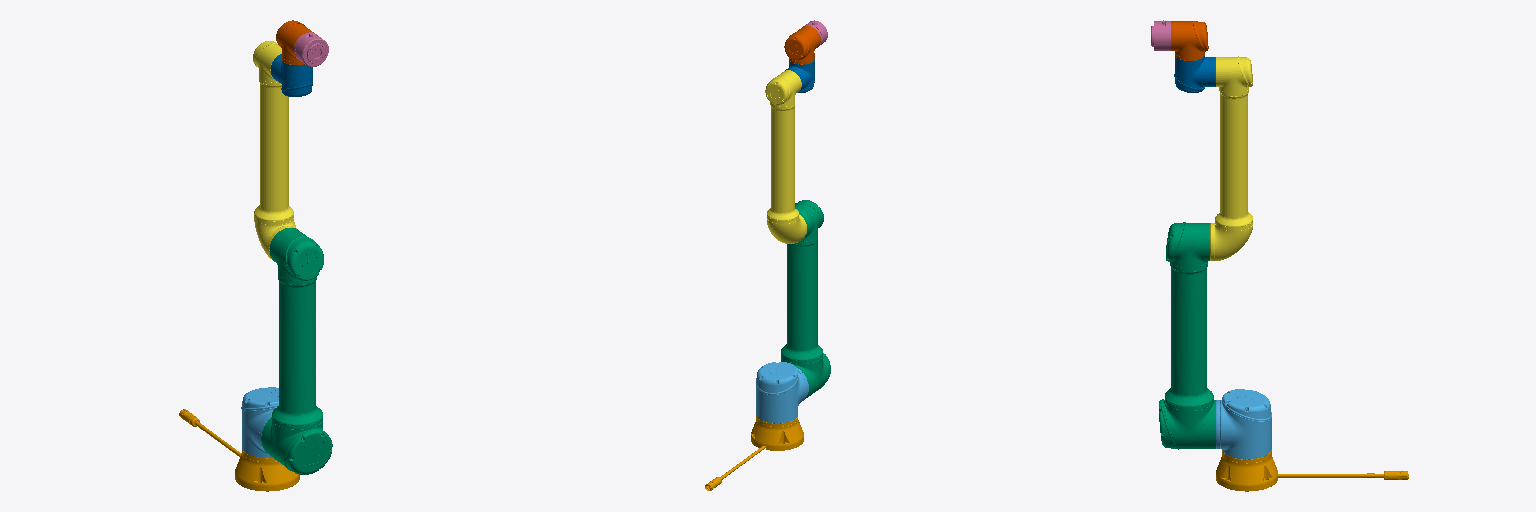
robot.urdf — UR10e:
<?xml version='1.0' encoding='utf-8'?>
<robot name="UR10e">
    <link name="base_link">
        <inertial>
            <origin xyz="0.06917428338563736 0.23417881688318734 -0.15337243336342846" rpy="0.0 0.0 0.0" />
            <mass value="10.356282674844591" />
            <inertia ixx="0.10918312373894065" iyy="0.12145214399428017" izz="0.030131414183445542" ixy="-1.807106658956794e-05" iyz="-0.01101980614496559" ixz="1.0084121370504752e-05" />
        </inertial>
        <visual name="base_link_visual">
            <origin xyz="0.0 0.0 0.0" rpy="0.0 0.0 0.0" />
            <geometry>
                <mesh filename="package://arm6d_demo/meshes/base_link.stl" scale="0.001 0.001 0.001" />
            </geometry>
        </visual>
        <collision name="base_link_collision">
            <origin xyz="0.0 0.0 0.0" rpy="0.0 0.0 0.0" />
            <geometry>
                <mesh filename="package://arm6d_demo/meshes/base_link.stl" scale="0.001 0.001 0.001" />
            </geometry>
        </collision>
    </link>
    <link name="link1_1">
        <inertial>
            <origin xyz="-4.973348842174375e-07 -0.012893529226239792 0.08338924809224578" rpy="0.0 -0.0 0.0" />
            <mass value="27.49176724202075" />
            <inertia ixx="0.11337084001060466" iyy="0.10075579785801886" izz="0.09433894846032778" ixy="-1.9096090897452456e-07" iyz="0.0013998997850853123" ixz="1.6848159711813082e-07" />
        </inertial>
        <visual name="link1_1_visual">
            <origin xyz="-0.06924891576197353 -0.1305945722548186 -0.2771011957374107" rpy="1.5707963267948966 5.551115123125785e-17 -1.9949319973733254e-16" />
            <geometry>
                <mesh filename="package://arm6d_demo/meshes/link1_1.stl" scale="0.001 0.001 0.001" />
            </geometry>
        </visual>
        <collision name="link1_1_collision">
            <origin xyz="-0.06924891576197353 -0.1305945722548186 -0.2771011957374107" rpy="1.5707963267948966 5.551115123125785e-17 -1.9949319973733254e-16" />
            <geometry>
                <mesh filename="package://arm6d_demo/meshes/link1_1.stl" scale="0.001 0.001 0.001" />
            </geometry>
        </collision>
    </link>
    <link name="link2_1">
        <inertial>
            <origin xyz="-4.0460252304086457e-08 0.21130489492964727 0.08240840302127826" rpy="0.0 -0.0 6.077163357286271e-64" />
            <mass value="45.96604980861881" />
            <inertia ixx="3.314123047863391" iyy="0.14431130944946557" izz="3.291260102682715" ixy="-6.110115124968729e-08" iyz="0.007339233969138492" ixz="2.2466732912951315e-07" />
        </inertial>
        <visual name="link2_1_visual">
            <origin xyz="-0.06924891576197463 -0.3585011957374097 0.03599457225481829" rpy="5.4057105551404585e-17 8.27463098040934e-16 -5.551115123125823e-17" />
            <geometry>
                <mesh filename="package://arm6d_demo/meshes/link2_1.stl" scale="0.001 0.001 0.001" />
            </geometry>
        </visual>
        <collision name="link2_1_collision">
            <origin xyz="-0.06924891576197463 -0.3585011957374097 0.03599457225481829" rpy="5.4057105551404585e-17 8.27463098040934e-16 -5.551115123125823e-17" />
            <geometry>
                <mesh filename="package://arm6d_demo/meshes/link2_1.stl" scale="0.001 0.001 0.001" />
            </geometry>
        </collision>
    </link>
    <link name="link3_1">
        <inertial>
            <origin xyz="2.487939632533909e-07 -0.24263667082513352 0.06359392041744232" rpy="0.0 -0.0 0.0" />
            <mass value="19.327241051601742" />
            <inertia ixx="1.2670904704050479" iyy="0.03470007322158933" izz="1.2610723223821196" ixy="-1.3354978900537162e-07" iyz="0.04170877464759998" ixz="-1.2606422645361492e-08" />
        </inertial>
        <visual name="link3_1_visual">
            <origin xyz="-0.06924891576197045 0.9712011957374085 -0.017994572254816675" rpy="-3.141592653589792 1.7243981289013484e-18 4.1633363423443444e-17" />
            <geometry>
                <mesh filename="package://arm6d_demo/meshes/link3_1.stl" scale="0.001 0.001 0.001" />
            </geometry>
        </visual>
        <collision name="link3_1_collision">
            <origin xyz="-0.06924891576197045 0.9712011957374085 -0.017994572254816675" rpy="-3.141592653589792 1.7243981289013484e-18 4.1633363423443444e-17" />
            <geometry>
                <mesh filename="package://arm6d_demo/meshes/link3_1.stl" scale="0.001 0.001 0.001" />
            </geometry>
        </collision>
    </link>
    <link name="link4_1">
        <inertial>
            <origin xyz="-1.2911618698652206e-08 0.001581957459696355 0.06249846941224869" rpy="0.0 -0.0 0.0" />
            <mass value="7.480525959645002" />
            <inertia ixx="0.01430355238185399" iyy="0.011823539229393706" izz="0.010417428430079312" ixy="-3.673344586285765e-07" iyz="-0.0003663601003360828" ixz="5.8023321772293635e-09" />
        </inertial>
        <visual name="link4_1_visual">
            <origin xyz="-0.06924891576197376 -1.542535725737434 0.03489457225481778" rpy="1.037938568563009e-15 -2.641422437093982e-18 -2.7755575615628904e-17" />
            <geometry>
                <mesh filename="package://arm6d_demo/meshes/link4_1.stl" scale="0.001 0.001 0.001" />
            </geometry>
        </visual>
        <collision name="link4_1_collision">
            <origin xyz="-0.06924891576197376 -1.542535725737434 0.03489457225481778" rpy="1.037938568563009e-15 -2.641422437093982e-18 -2.7755575615628904e-17" />
            <geometry>
                <mesh filename="package://arm6d_demo/meshes/link4_1.stl" scale="0.001 0.001 0.001" />
            </geometry>
        </collision>
    </link>
    <link name="link5_1">
        <inertial>
            <origin xyz="2.5812329699448357e-07 -0.0017722514818245827 0.05333362845100226" rpy="0.0 -3.0933288145311896e-100 0.0" />
            <mass value="6.7011959264999" />
            <inertia ixx="0.011295515370372655" iyy="0.008825710459245073" izz="0.009613900010889381" ixy="-7.748204799290503e-08" iyz="0.00029191148494223107" ixz="-4.1302318298797047e-07" />
        </inertial>
        <visual name="link5_1_visual">
            <origin xyz="-0.0692489157619754 0.0435554277451829 -1.5994357257374148" rpy="1.5707963267948977 -1.3877787807814466e-17 -2.6414224370940346e-18" />
            <geometry>
                <mesh filename="package://arm6d_demo/meshes/link5_1.stl" scale="0.001 0.001 0.001" />
            </geometry>
        </visual>
        <collision name="link5_1_collision">
            <origin xyz="-0.0692489157619754 0.0435554277451829 -1.5994357257374148" rpy="1.5707963267948977 -1.3877787807814466e-17 -2.6414224370940346e-18" />
            <geometry>
                <mesh filename="package://arm6d_demo/meshes/link5_1.stl" scale="0.001 0.001 0.001" />
            </geometry>
        </collision>
    </link>
    <link name="link6_1">
        <inertial>
            <origin xyz="2.052886873826765e-09 -0.00011146462771677079 0.0277645415984588" rpy="0.0 -0.0 7.596454196607839e-65" />
            <mass value="2.7494649758872924" />
            <inertia ixx="0.0020705591106198185" iyy="0.0020820341590397085" izz="0.0027233595535118837" ixy="1.6653345369377348e-16" iyz="6.704385147049408e-08" ixz="-6.536438057480609e-15" />
        </inertial>
        <visual name="link6_1_visual">
            <origin xyz="-0.06924891576197535 -1.6623857257374182 -0.09985542774518269" rpy="1.0364995228124495e-15 1.7276392709704102e-17 1.3877787807814444e-17" />
            <geometry>
                <mesh filename="package://arm6d_demo/meshes/link6_1.stl" scale="0.001 0.001 0.001" />
            </geometry>
        </visual>
        <collision name="link6_1_collision">
            <origin xyz="-0.06924891576197535 -1.6623857257374182 -0.09985542774518269" rpy="1.0364995228124495e-15 1.7276392709704102e-17 1.3877787807814444e-17" />
            <geometry>
                <mesh filename="package://arm6d_demo/meshes/link6_1.stl" scale="0.001 0.001 0.001" />
            </geometry>
        </collision>
    </link>
    <joint name="base_link_Joint0" type="revolute">
        <origin xyz="0.06924891576197355 0.2771011957374106 -0.1305945722548187" rpy="-1.5707963267948968 1.994931997373329e-16 3.3306690738754716e-16" />
        <parent link="base_link" />
        <child link="link1_1" />
        <axis xyz="6.945925986254016e-32 4.930380657631324e-32 1.0" />
        <limit lower="-3.14159" upper="3.14159" effort="200" velocity="2.0"/>
    </joint>
    <joint name="link1_1_Joint1" type="revolute">
        <origin xyz="0.0 -0.09460000000000002 0.08140000000000001" rpy="1.5707963267948966 7.311852675687588e-32 2.465190328815662e-32" />
        <parent link="link1_1" />
        <child link="link2_1" />
        <axis xyz="-2.465190328815662e-32 0.0 1.0" />
        <limit lower="-2.35619" upper="2.35619" effort="200" velocity="2.0"/>
    </joint>
    <joint name="link2_1_Joint2" type="revolute">
        <origin xyz="0.0 0.6127 0.018" rpy="3.141592653589793 -2.465190328815662e-32 9.244463733058138e-33" />
        <parent link="link2_1" />
        <child link="link3_1" />
        <axis xyz="0.0 0.0 1.0" />
        <limit lower="-2.35619" upper="2.35619" effort="150" velocity="2.0"/>
    </joint>
    <joint name="link3_1_Joint3" type="revolute">
        <origin xyz="0.0 -0.5713345299999999 0.0169" rpy="-3.141592653589793 -0.0 9.566751473747868e-33" />
        <parent link="link3_1" />
        <child link="link4_1" />
        <axis xyz="0.0 1.9721522630525295e-31 1.0" />
        <limit lower="-2.35619" upper="2.35619" effort="150" velocity="2.0"/>
    </joint>
    <joint name="link4_1_Joint4" type="revolute">
        <origin xyz="0.0 0.05690000000000026 0.07844999999999999" rpy="-1.5707963267948966 3.851859888774472e-34 4.242167072099582e-33" />
        <parent link="link4_1" />
        <child link="link5_1" />
        <axis xyz="2.606124370741287e-34 0.0 1.0" />
        <limit lower="-3.14159" upper="3.14159" effort="100" velocity="3.0"/>
    </joint>
    <joint name="link5_1_Joint5" type="revolute">
        <origin xyz="0.0 -0.05690000000000001 0.06294999999999988" rpy="1.5707963267948966 6.004661247661387e-34 -7.703719777548943e-34" />
        <parent link="link5_1" />
        <child link="link6_1" />
        <axis xyz="3.851859888774472e-34 1.9721522630525295e-31 1.0" />
        <limit lower="-6.28318" upper="6.28318" effort="60" velocity="4.0"/>
    </joint>
    <link name="world"/>

    <joint name="world_to_base" type="fixed">
    <parent link="world"/>
    <child link="base_link"/>
    <origin xyz="0 0 -0.181" rpy="1.57079632679 0 0"/>
    </joint>
</robot>

--- Render facts (derived) ---
Views: 3 orthographic renders of the robot side by side, from view 1: azimuth 30°, elevation 25°; view 2: azimuth 150°, elevation 25°; view 3: azimuth 270°, elevation 25°.
Robot: UR10e — 8 links, 7 joints (6 revolute, 1 fixed); root link world; default pose: all joints at 0.
Visible links, largest first — view 1: link2_1, link3_1, base_link, link1_1, link4_1, link6_1, link5_1; view 2: link2_1, link3_1, link1_1, base_link, link5_1; view 3: link2_1, link3_1, link1_1, base_link, link5_1, link4_1, link6_1.
Link boxes in pixels (<box>): link2_1: <box>261,228,332,474</box>; link3_1: <box>253,41,296,258</box>; base_link: <box>179,409,299,491</box>; link1_1: <box>241,387,278,457</box>; link4_1: <box>271,54,312,96</box>; link6_1: <box>294,32,328,66</box>; link5_1: <box>276,20,313,64</box>; link2_1: <box>781,200,830,397</box>; link3_1: <box>765,70,806,243</box>; link1_1: <box>756,362,808,422</box>; base_link: <box>705,416,803,490</box>; link5_1: <box>784,26,820,64</box>; link2_1: <box>1159,222,1215,449</box>; link3_1: <box>1210,56,1252,260</box>; link1_1: <box>1216,389,1271,458</box>; base_link: <box>1216,450,1408,491</box>; link5_1: <box>1171,21,1208,60</box>; link4_1: <box>1174,55,1215,92</box>; link6_1: <box>1151,20,1170,50</box>.
Size in the robot's own frame: 0.19 by 0.7821 by 1.54 metres.
7 mesh visuals loaded from 7 distinct referenced files (7 binary STL).